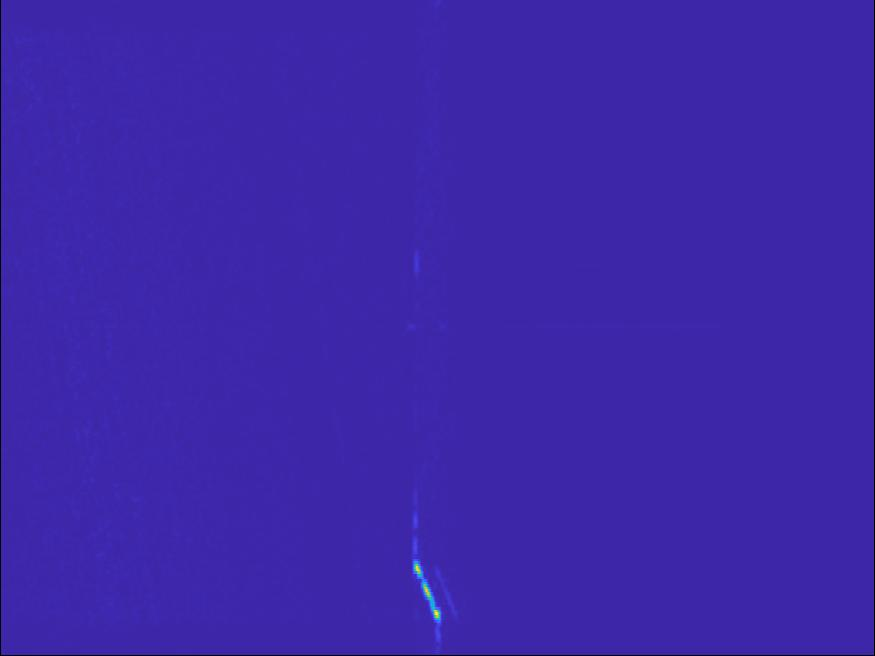Interference: (551, 52, 769, 199), (476, 285, 708, 366), (1, 294, 106, 350), (650, 57, 743, 96)
